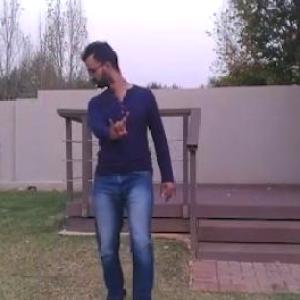takeoff-hand: (102, 106, 136, 143)
